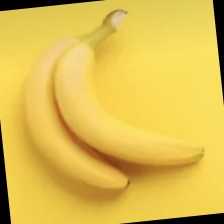banana: (11, 37, 196, 211)
